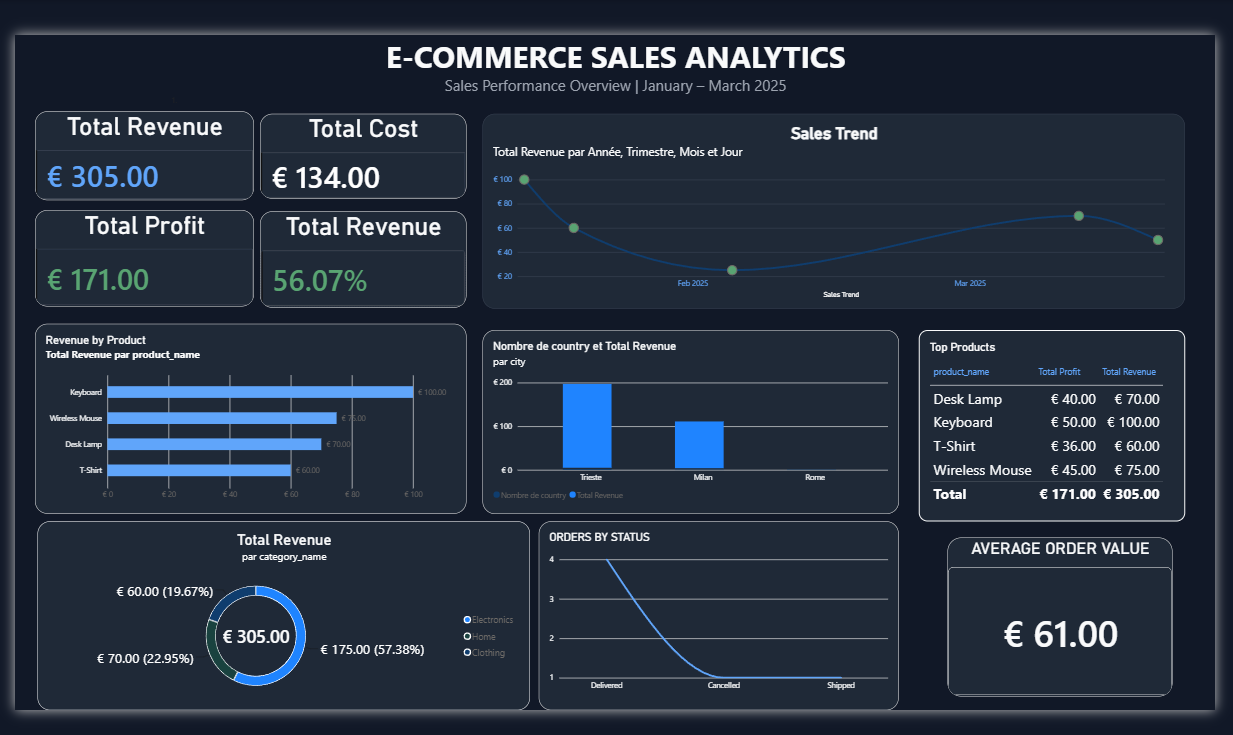

Layout of this report page (visuals, bound fields, positions):
{"tool":"powerbi","page":{"name":"Page 1","canvas":[1920,1080],"ordinal":0},"visuals":[{"type":"textbox","box":[250,0,1422,160],"z":0},{"type":"cardVisual","title":"Total Revenue","fields":{"Data":["public order_items.Total Revenue"]},"box":[32,122,350,142],"z":1000},{"type":"cardVisual","title":"Total Profit","fields":{"Data":["public order_items.Total Profit"]},"box":[32,280,350,154],"z":2000},{"type":"cardVisual","title":"Total Cost","fields":{"Data":["public order_items.Total Cost"]},"box":[392,126,330,136],"z":3000},{"type":"cardVisual","title":"Total Revenue","fields":{"Data":["public order_items.Profit Margin"]},"box":[392,282,330,154],"z":4000},{"type":"lineChart","title":"Sales Trend","fields":{"Category":["public orders.order_date.Variation.Hiérarchie de dates.Année","public orders.order_date.Variation.Hiérarchie de dates.Trimestre","public orders.order_date.Variation.Hiérarchie de dates.Mois","public orders.order_date.Variation.Hiérarchie de dates.Jour"],"Y":["public order_items.Total Revenue"]},"box":[748,126,1124,312],"z":5000},{"type":"barChart","title":"Revenue by Product","fields":{"Category":["public products.product_name"],"Y":["public order_items.Total Revenue"]},"box":[32,462,690,304],"z":6000},{"type":"columnChart","fields":{"Category":["public customers.city"],"Y":["CountNonNull(public customers.country)","public order_items.Total Revenue"]},"box":[748,472,666,294],"z":6001},{"type":"tableEx","title":"Top Products","fields":{"Values":["public products.product_name","public order_items.Total Profit","public order_items.Total Revenue"]},"box":[1446,472,426,306],"z":6002},{"type":"donutChart","fields":{"Category":["public categories.category_name"],"Y":["public order_items.Total Revenue"]},"box":[36,778,788,302],"z":6003},{"type":"lineChart","title":"ORDERS BY STATUS","fields":{"Category":["public orders.status"],"Y":["CountNonNull(public orders.order_id)"]},"box":[838,778,576,302],"z":6004},{"type":"cardVisual","title":"AVERAGE ORDER VALUE","fields":{"Data":["public orders.Average Order Value"]},"box":[1492,804,360,254],"z":6005}]}

Visuals, with their boxes on the page's 1920x1080 design canvas (x1, y1, x2, y2). These are canvas units, not pixel positions in the 1233x735 screenshot, which may show the page scaled, cropped or inside an application window:
textbox: locate(250, 0, 1672, 160)
"Total Revenue" cardVisual: locate(32, 122, 382, 264)
"Total Profit" cardVisual: locate(32, 280, 382, 434)
"Total Cost" cardVisual: locate(392, 126, 722, 262)
"Total Revenue" cardVisual: locate(392, 282, 722, 436)
"Sales Trend" lineChart: locate(748, 126, 1872, 438)
"Revenue by Product" barChart: locate(32, 462, 722, 766)
columnChart - public customers.city x CountNonNull(public customers.country): locate(748, 472, 1414, 766)
"Top Products" tableEx: locate(1446, 472, 1872, 778)
donutChart - public categories.category_name x public order_items.Total Revenue: locate(36, 778, 824, 1080)
"ORDERS BY STATUS" lineChart: locate(838, 778, 1414, 1080)
"AVERAGE ORDER VALUE" cardVisual: locate(1492, 804, 1852, 1058)
